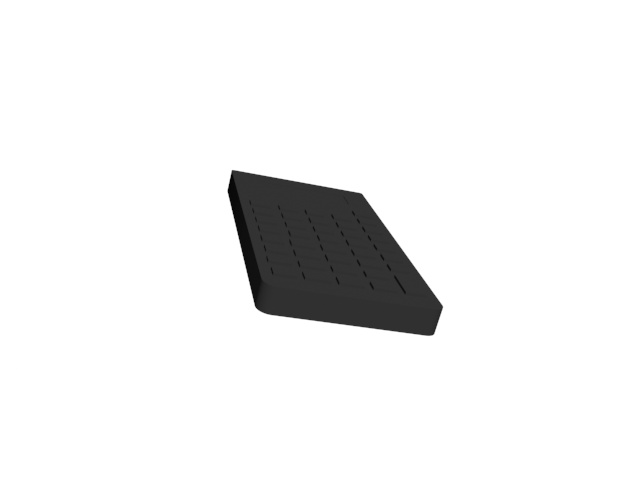calculator: (225, 169, 448, 344)
